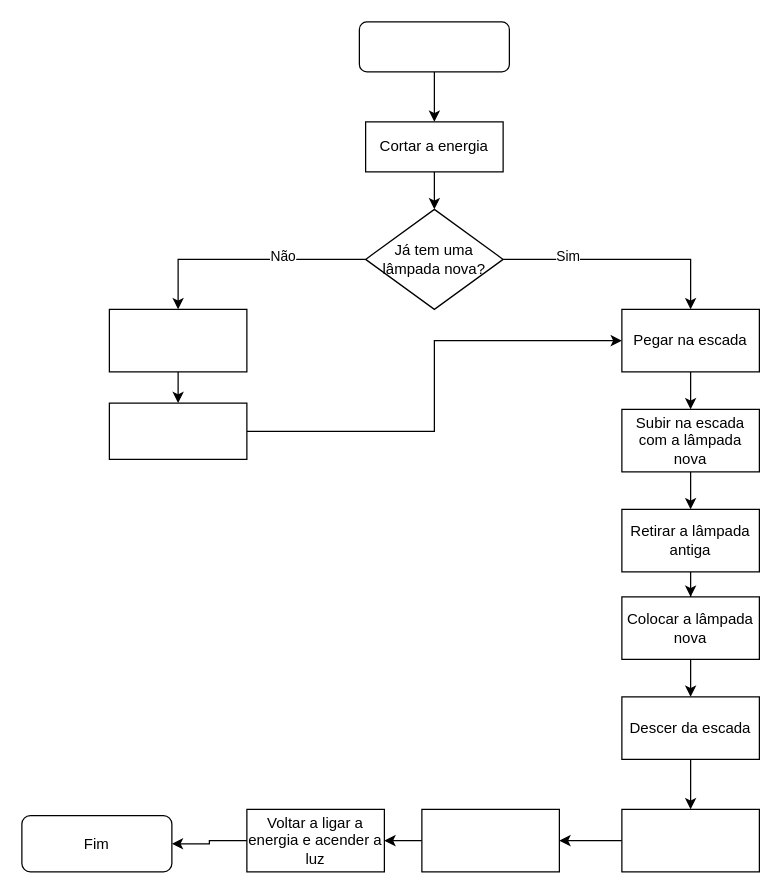
Some shapes in this 781 by 894 pixel diagram are drawn without their labels. Here are the shapes that lost their labels. From the top down, the centre of each, then its label:
At (x=433, y=46): "Início".
At (x=177, y=340): "Ir comprar".
At (x=177, y=430): "Voltar para casa".
At (x=490, y=840): "Arrumar a escada".
At (x=690, y=840): "Deitar fora a lâmpada velha".
